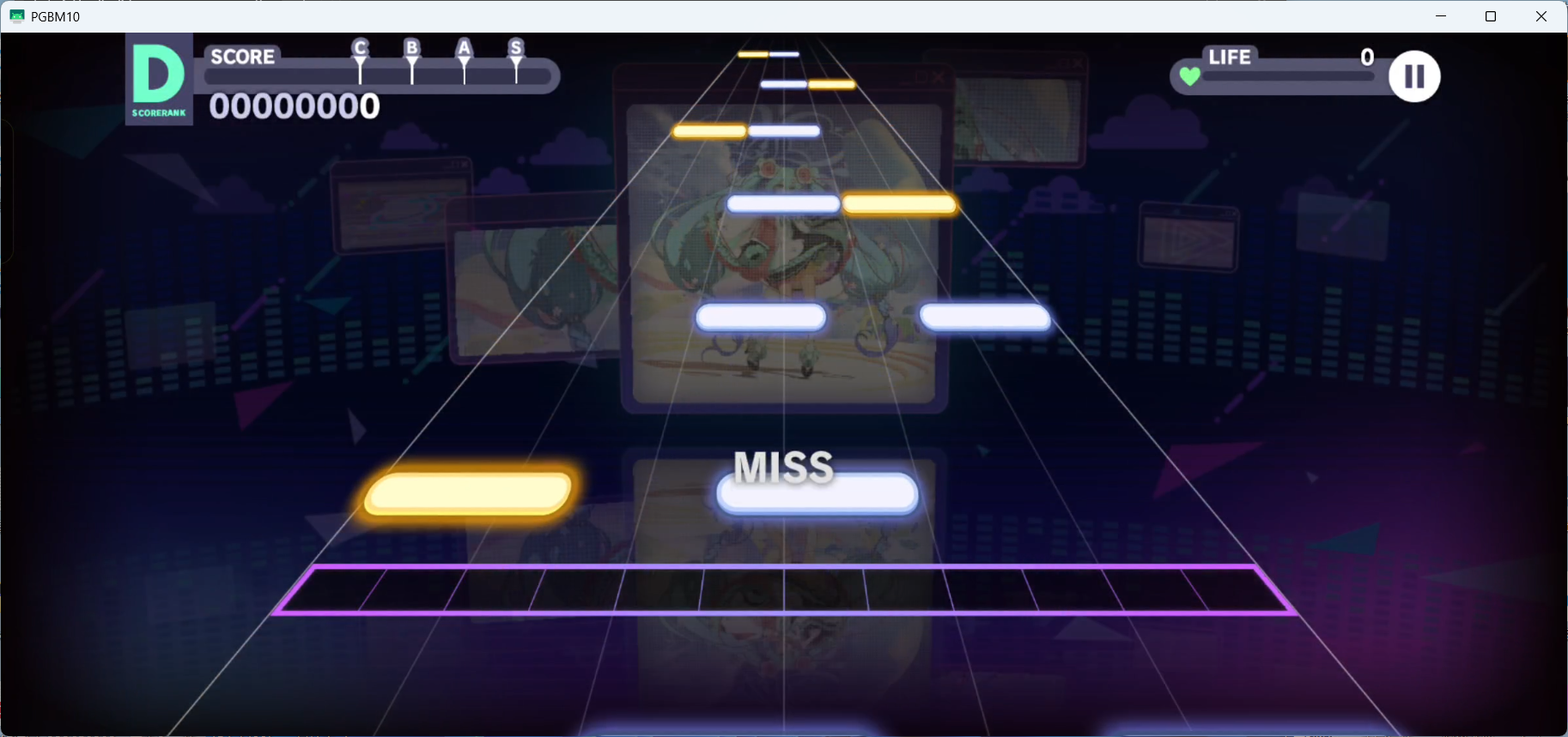tap: (363, 472, 571, 514), (717, 474, 919, 516), (918, 303, 1052, 332), (696, 302, 825, 331), (727, 195, 839, 213), (844, 196, 956, 214), (674, 124, 745, 137), (748, 125, 820, 137), (808, 80, 855, 89), (761, 80, 807, 89), (738, 51, 768, 57), (769, 51, 799, 57)
